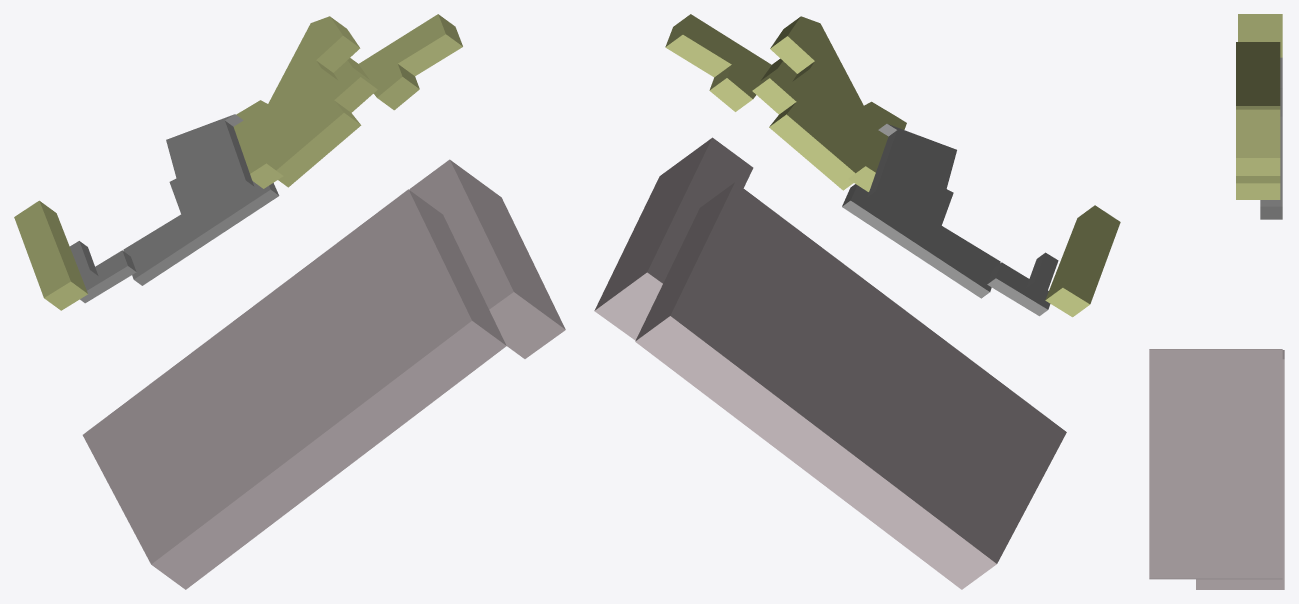
The picture shows the model from 3 angles, left to right: view 1: azimuth 30°, elevation 25°; view 2: azimuth 150°, elevation 25°; view 3: azimuth 270°, elevation 25°; orthographic projection. The views are drawn at different scales.
Parts seen in each view (by area): view 1: 0_1_0_2_0_2_2_1; view 2: 0_1_0_2_0_2_2_1; view 3: 0_1_0_2_0_2_2_1.
Boxes of the visible parts, left/top/right/bottom form: 0_1_0_2_0_2_2_1: left=14, top=14, right=565, bottom=589; 0_1_0_2_0_2_2_1: left=594, top=14, right=1120, bottom=589; 0_1_0_2_0_2_2_1: left=1149, top=14, right=1284, bottom=589.
Size of the model in its own units: 99.94 by 96.78 by 18.3.
